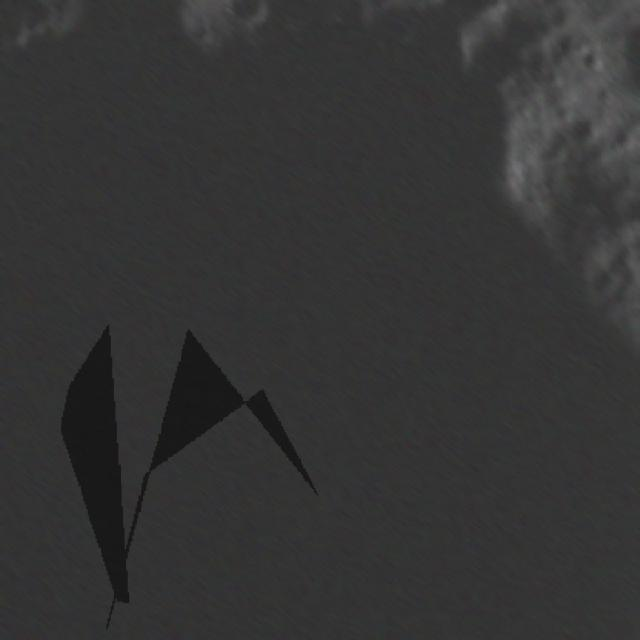crater: (572, 115, 597, 146), (592, 269, 619, 296), (193, 24, 215, 48), (611, 132, 634, 154), (571, 38, 592, 58), (597, 88, 617, 106), (546, 38, 562, 57), (536, 184, 550, 198)
